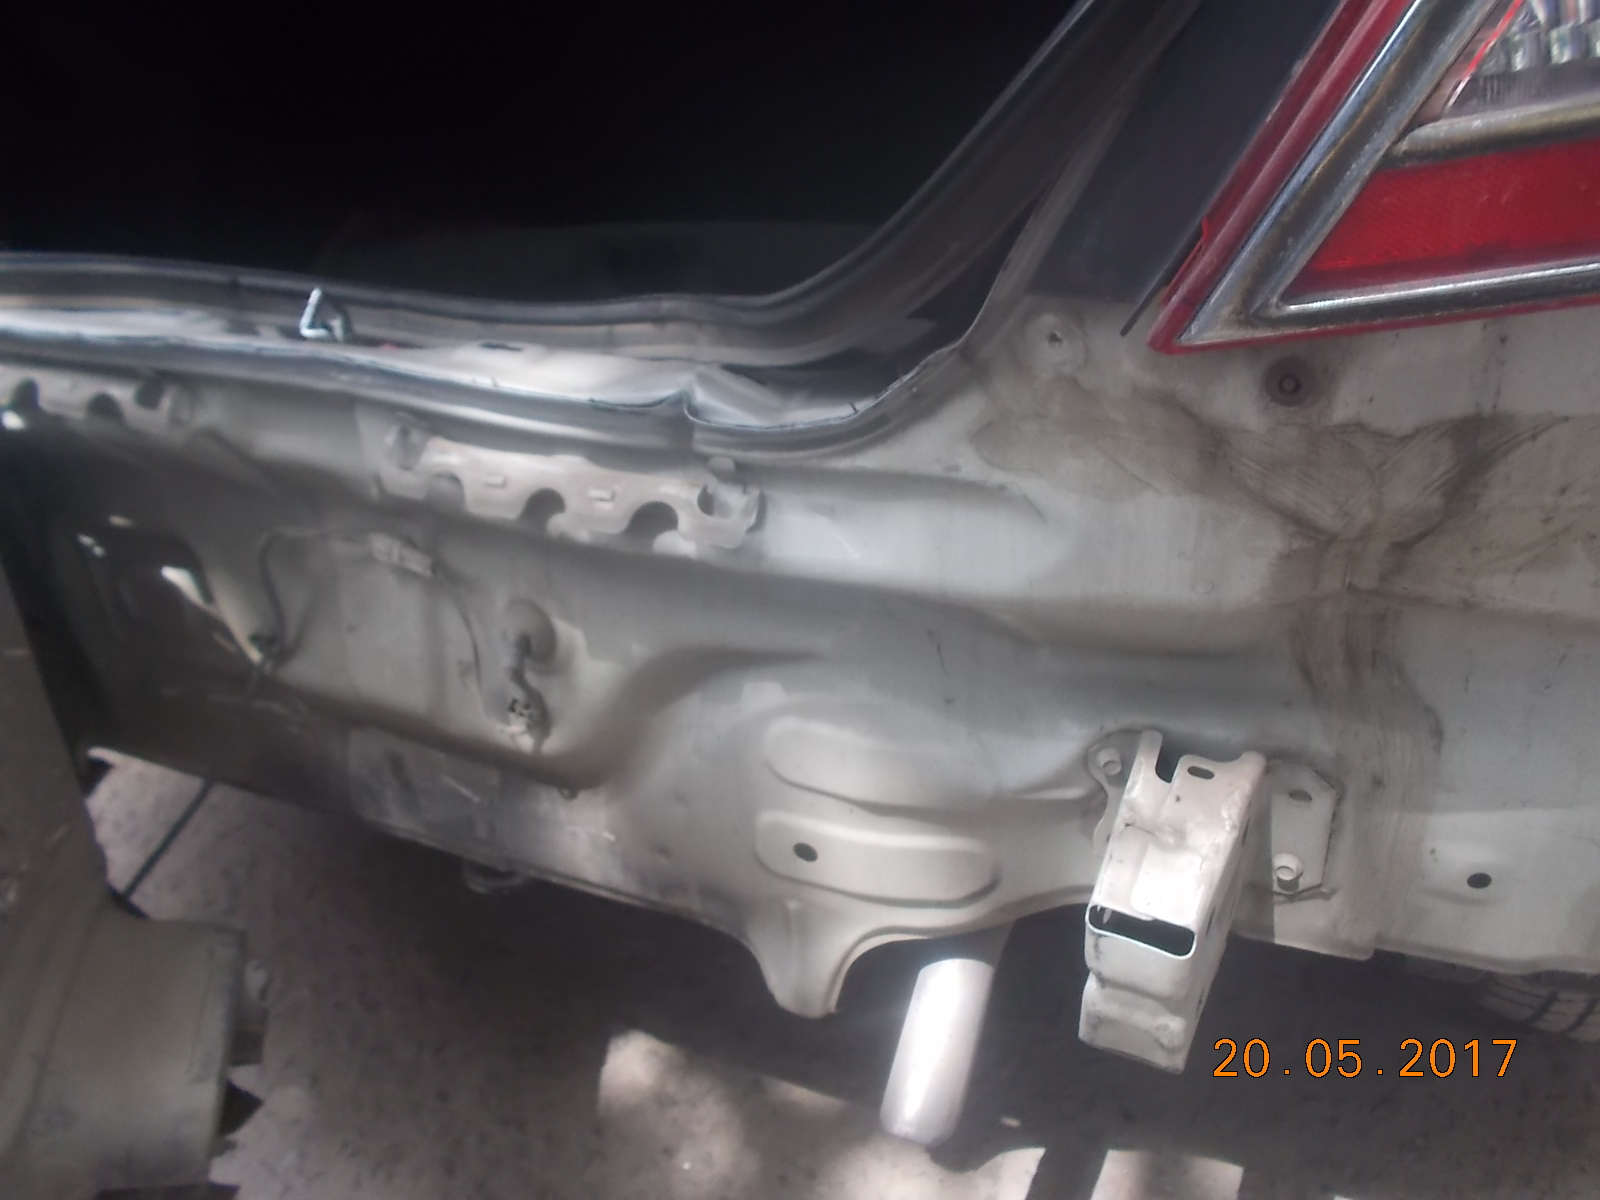Large_tear_or_damage: (0, 267, 1597, 1082)
